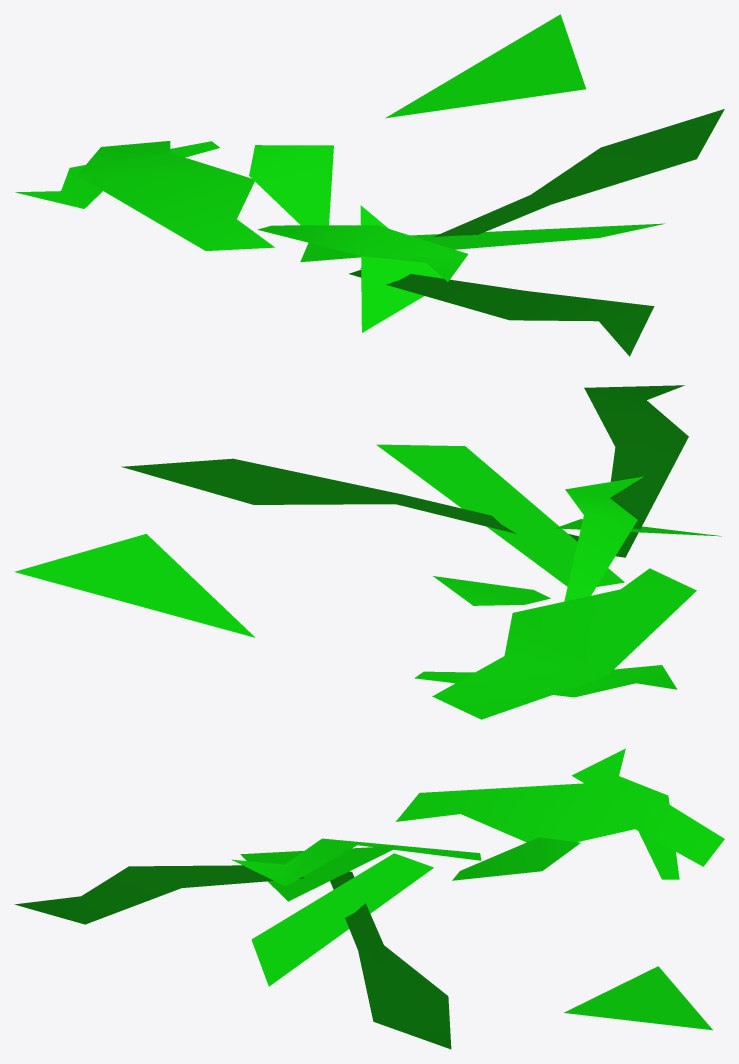
The model's file is scvhd_Var6_LOD0.fbx.
3 renders of one model, top to bottom at view 1: azimuth 30°, elevation 25°; view 2: azimuth 150°, elevation 25°; view 3: azimuth 270°, elevation 25°, orthographic. The views are drawn at different scales.
Parts seen in each view (by area): view 1: _5916_Var6_LOD0; view 2: _5916_Var6_LOD0; view 3: _5916_Var6_LOD0.
Boxes of the visible parts, x1,y1,x2,y2 form: _5916_Var6_LOD0: (15, 14, 724, 356); _5916_Var6_LOD0: (14, 385, 721, 719); _5916_Var6_LOD0: (14, 748, 724, 1049).
Size of the model in its own units: 42.54 by 3.15 by 42.9.
